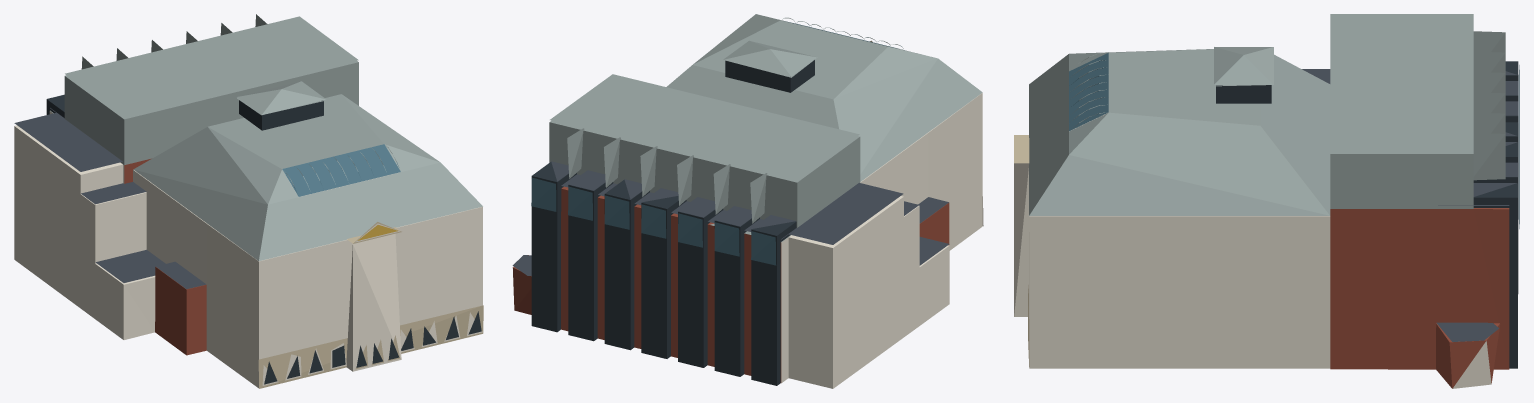
The model's file is royal-theater-carre.lod2.glb.
3 renders of one model, left to right at view 1: azimuth 30°, elevation 25°; view 2: azimuth 150°, elevation 25°; view 3: azimuth 270°, elevation 25°, orthographic. The views are drawn at different scales.
Visible parts, largest first — view 1: lod2; view 2: lod2; view 3: lod2.
Part boxes in pixels (x1=…): lod2: x1=14, y1=14, x2=483, y2=388; lod2: x1=512, y1=14, x2=983, y2=388; lod2: x1=1014, y1=14, x2=1519, y2=388.
Size of the model in its own units: 51.4 by 32.61 by 60.49.
